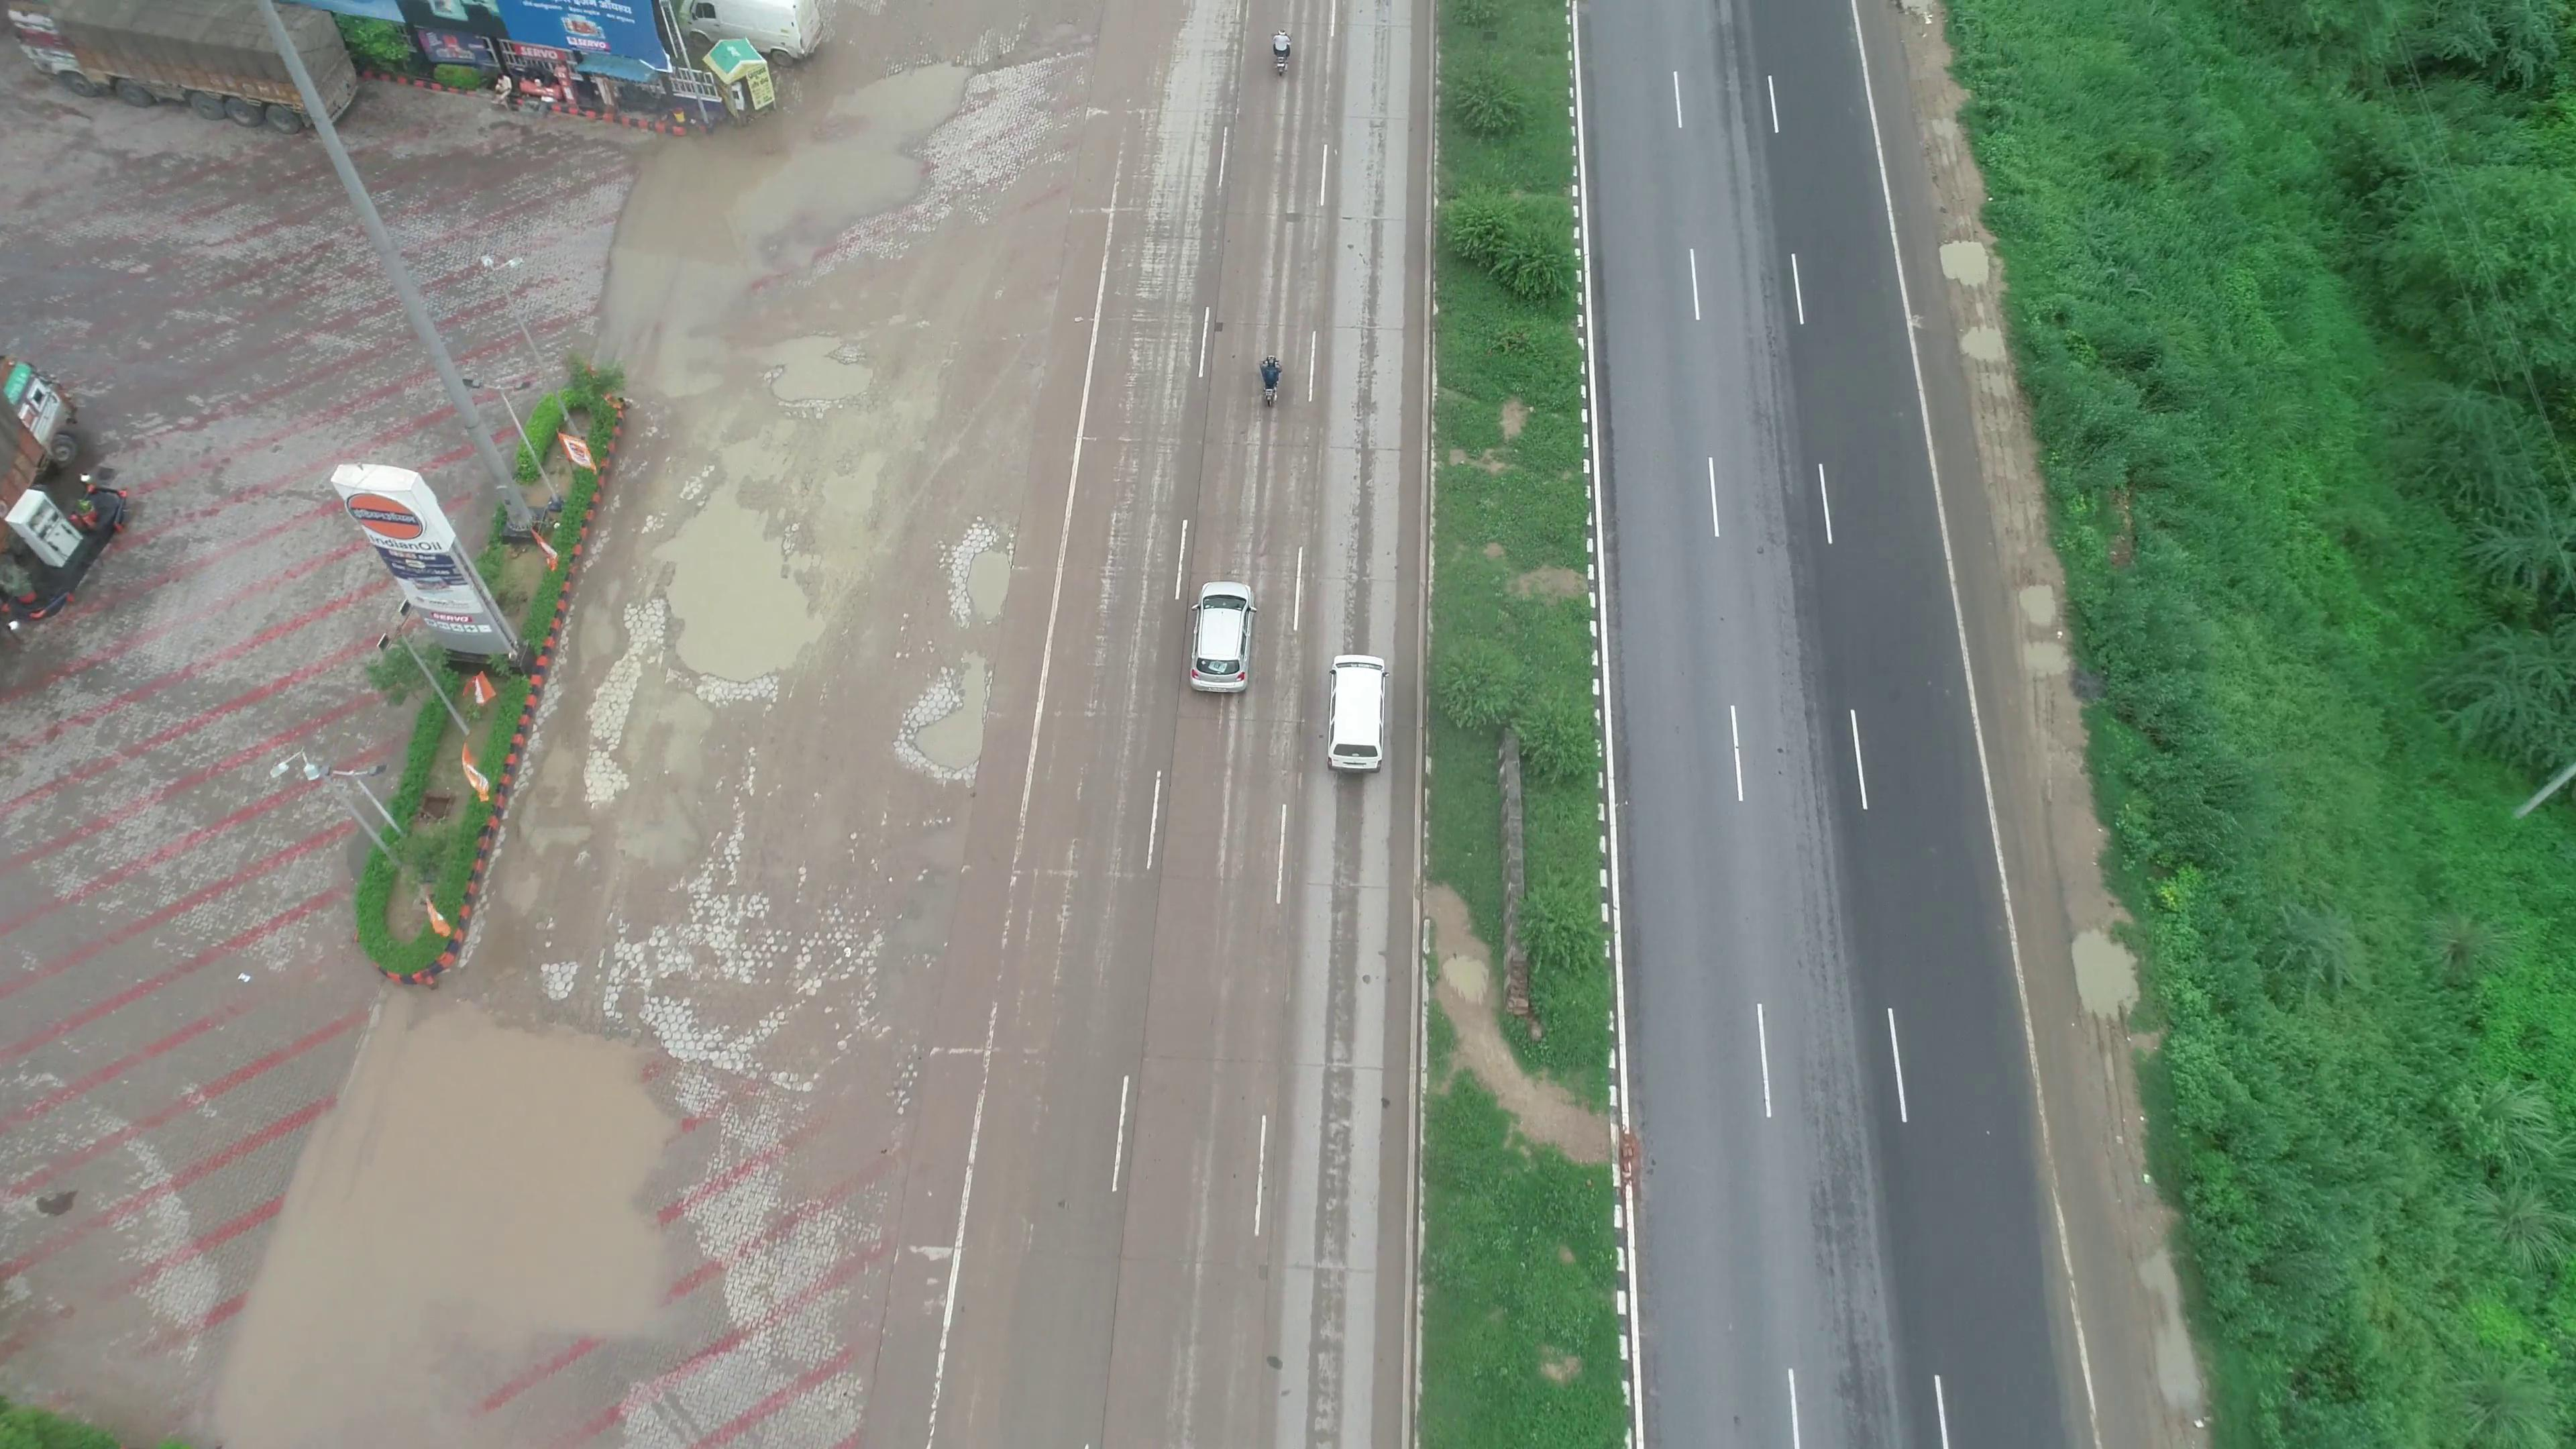Waterlogging: (632, 487, 863, 699)
